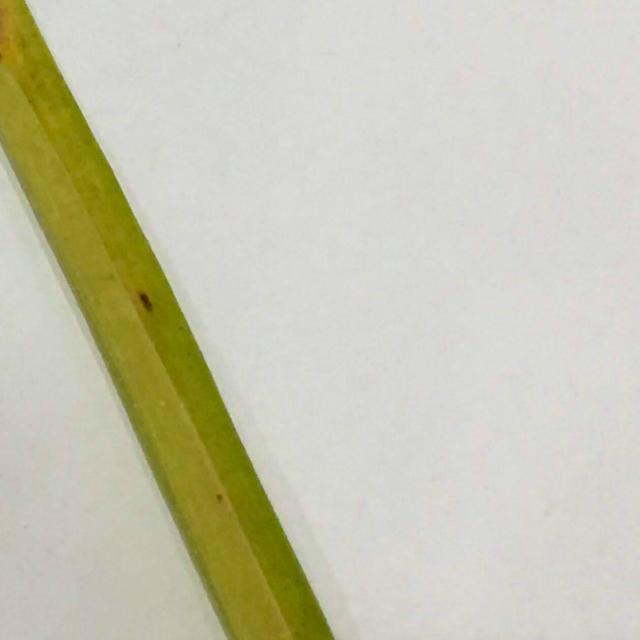brownspots: (129, 286, 168, 320), (212, 488, 226, 508)
